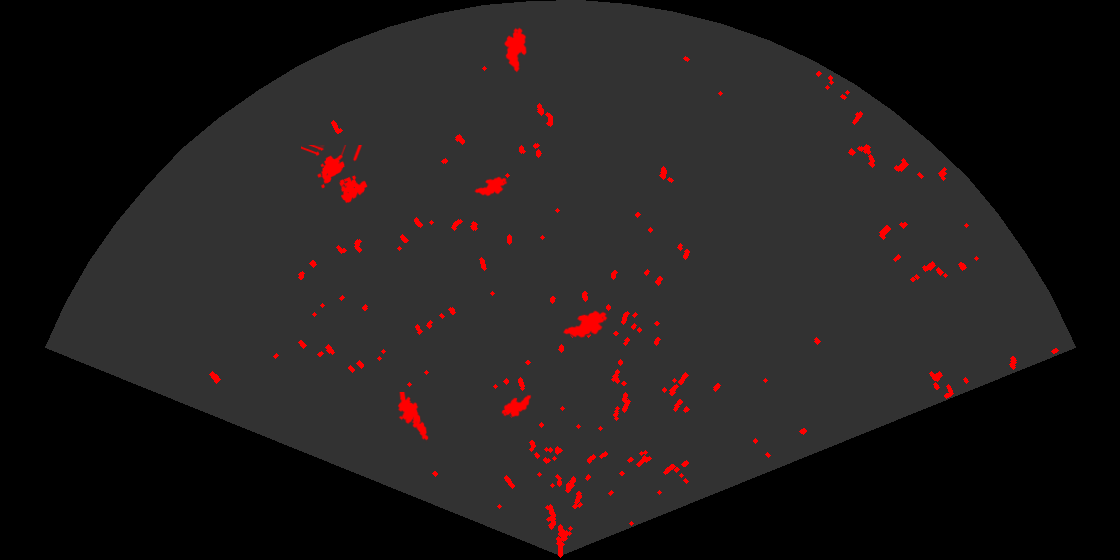AUV: (561, 309, 609, 340), (502, 26, 528, 74), (500, 393, 533, 419), (473, 175, 509, 198)
cage: (301, 145, 369, 205)
frogman: (396, 392, 430, 443)
